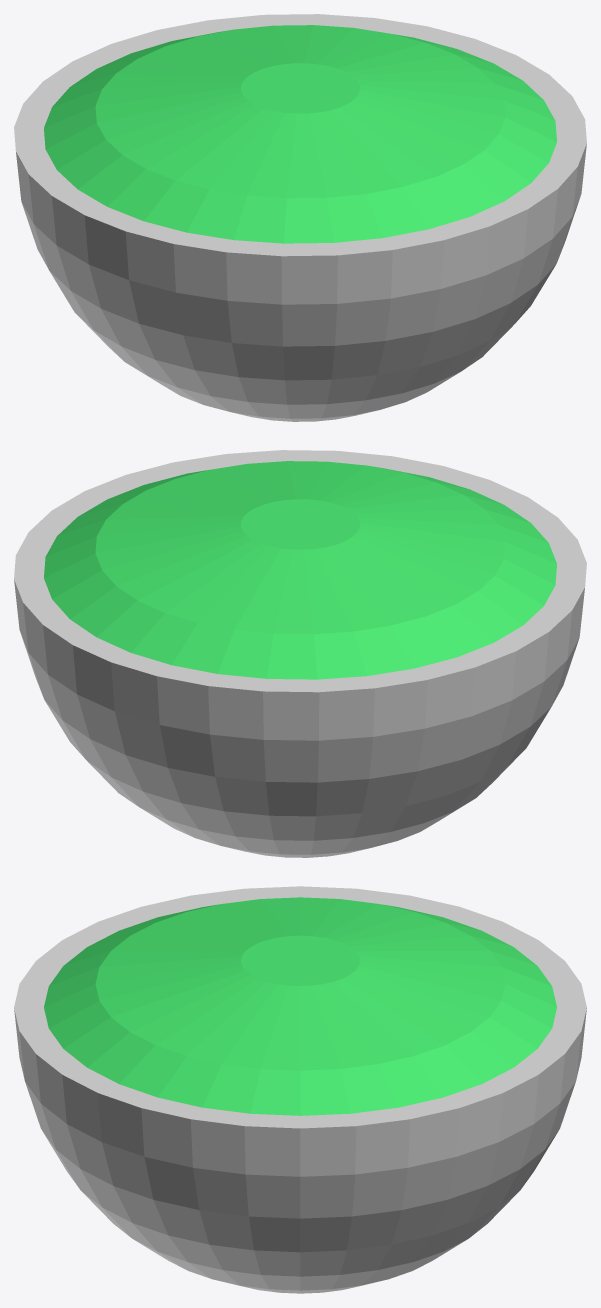
File: salad.fbx
3 views of the same model, one above another, from view 1: azimuth 30°, elevation 25°; view 2: azimuth 150°, elevation 25°; view 3: azimuth 270°, elevation 25° (orthographic).
Visible parts, largest first — view 1: Sphere; view 2: Sphere; view 3: Sphere.
Part boxes in pixels (x1=…): Sphere: x1=14, y1=14, x2=586, y2=421; Sphere: x1=14, y1=450, x2=586, y2=857; Sphere: x1=14, y1=886, x2=586, y2=1293.
Bounding box in the file's own units: 200 × 118 × 200.
